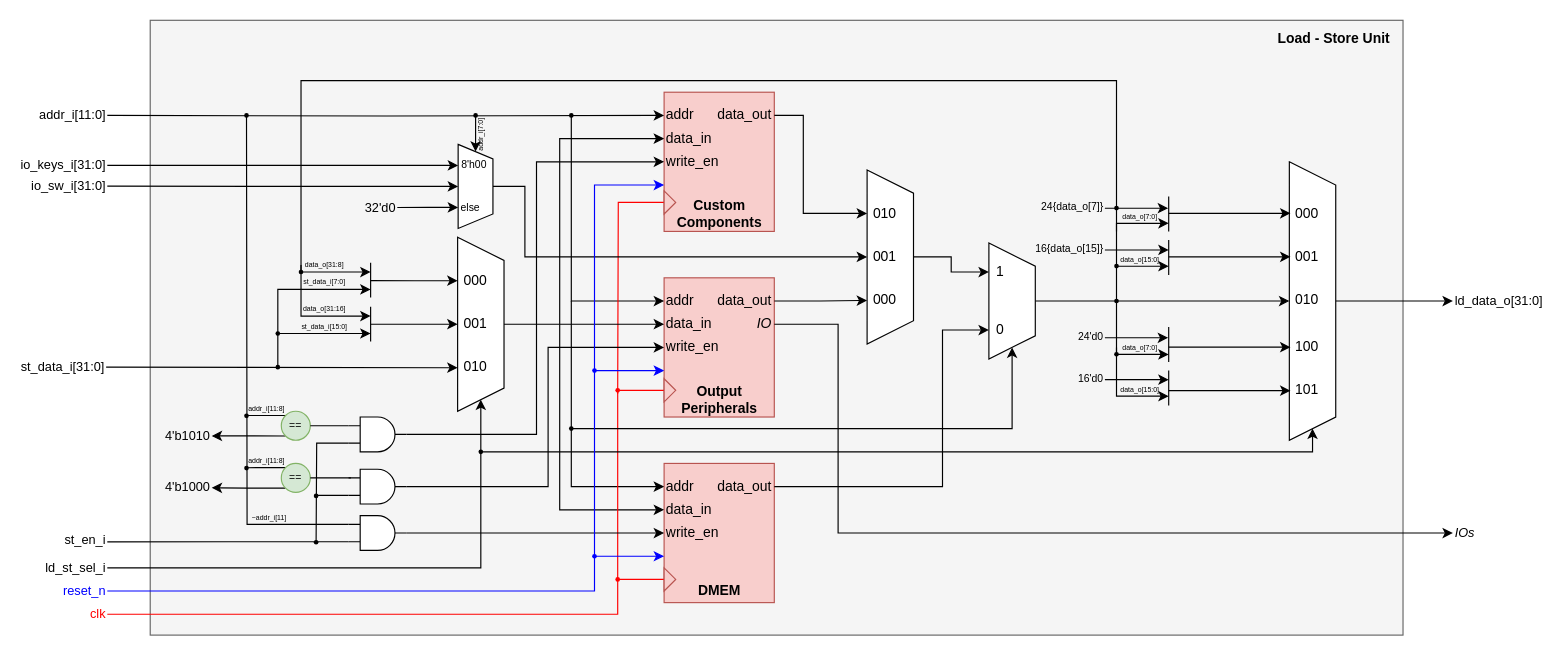
Image size: 1564x655. Some labels were removed from this diagram. Here are the shapes that lost their labels. From the top down, the centre of each, then its label:
At point 475,186: "8'h10".
At point 1011,300: "data_o[31:0]".
